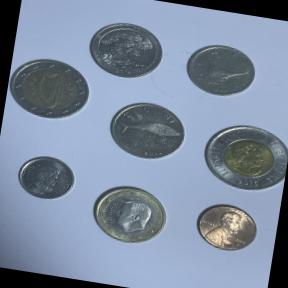coin: (194, 113, 288, 203), (82, 176, 178, 254), (102, 90, 194, 168), (3, 51, 96, 128), (79, 13, 170, 85), (188, 195, 266, 259), (11, 148, 82, 207)
